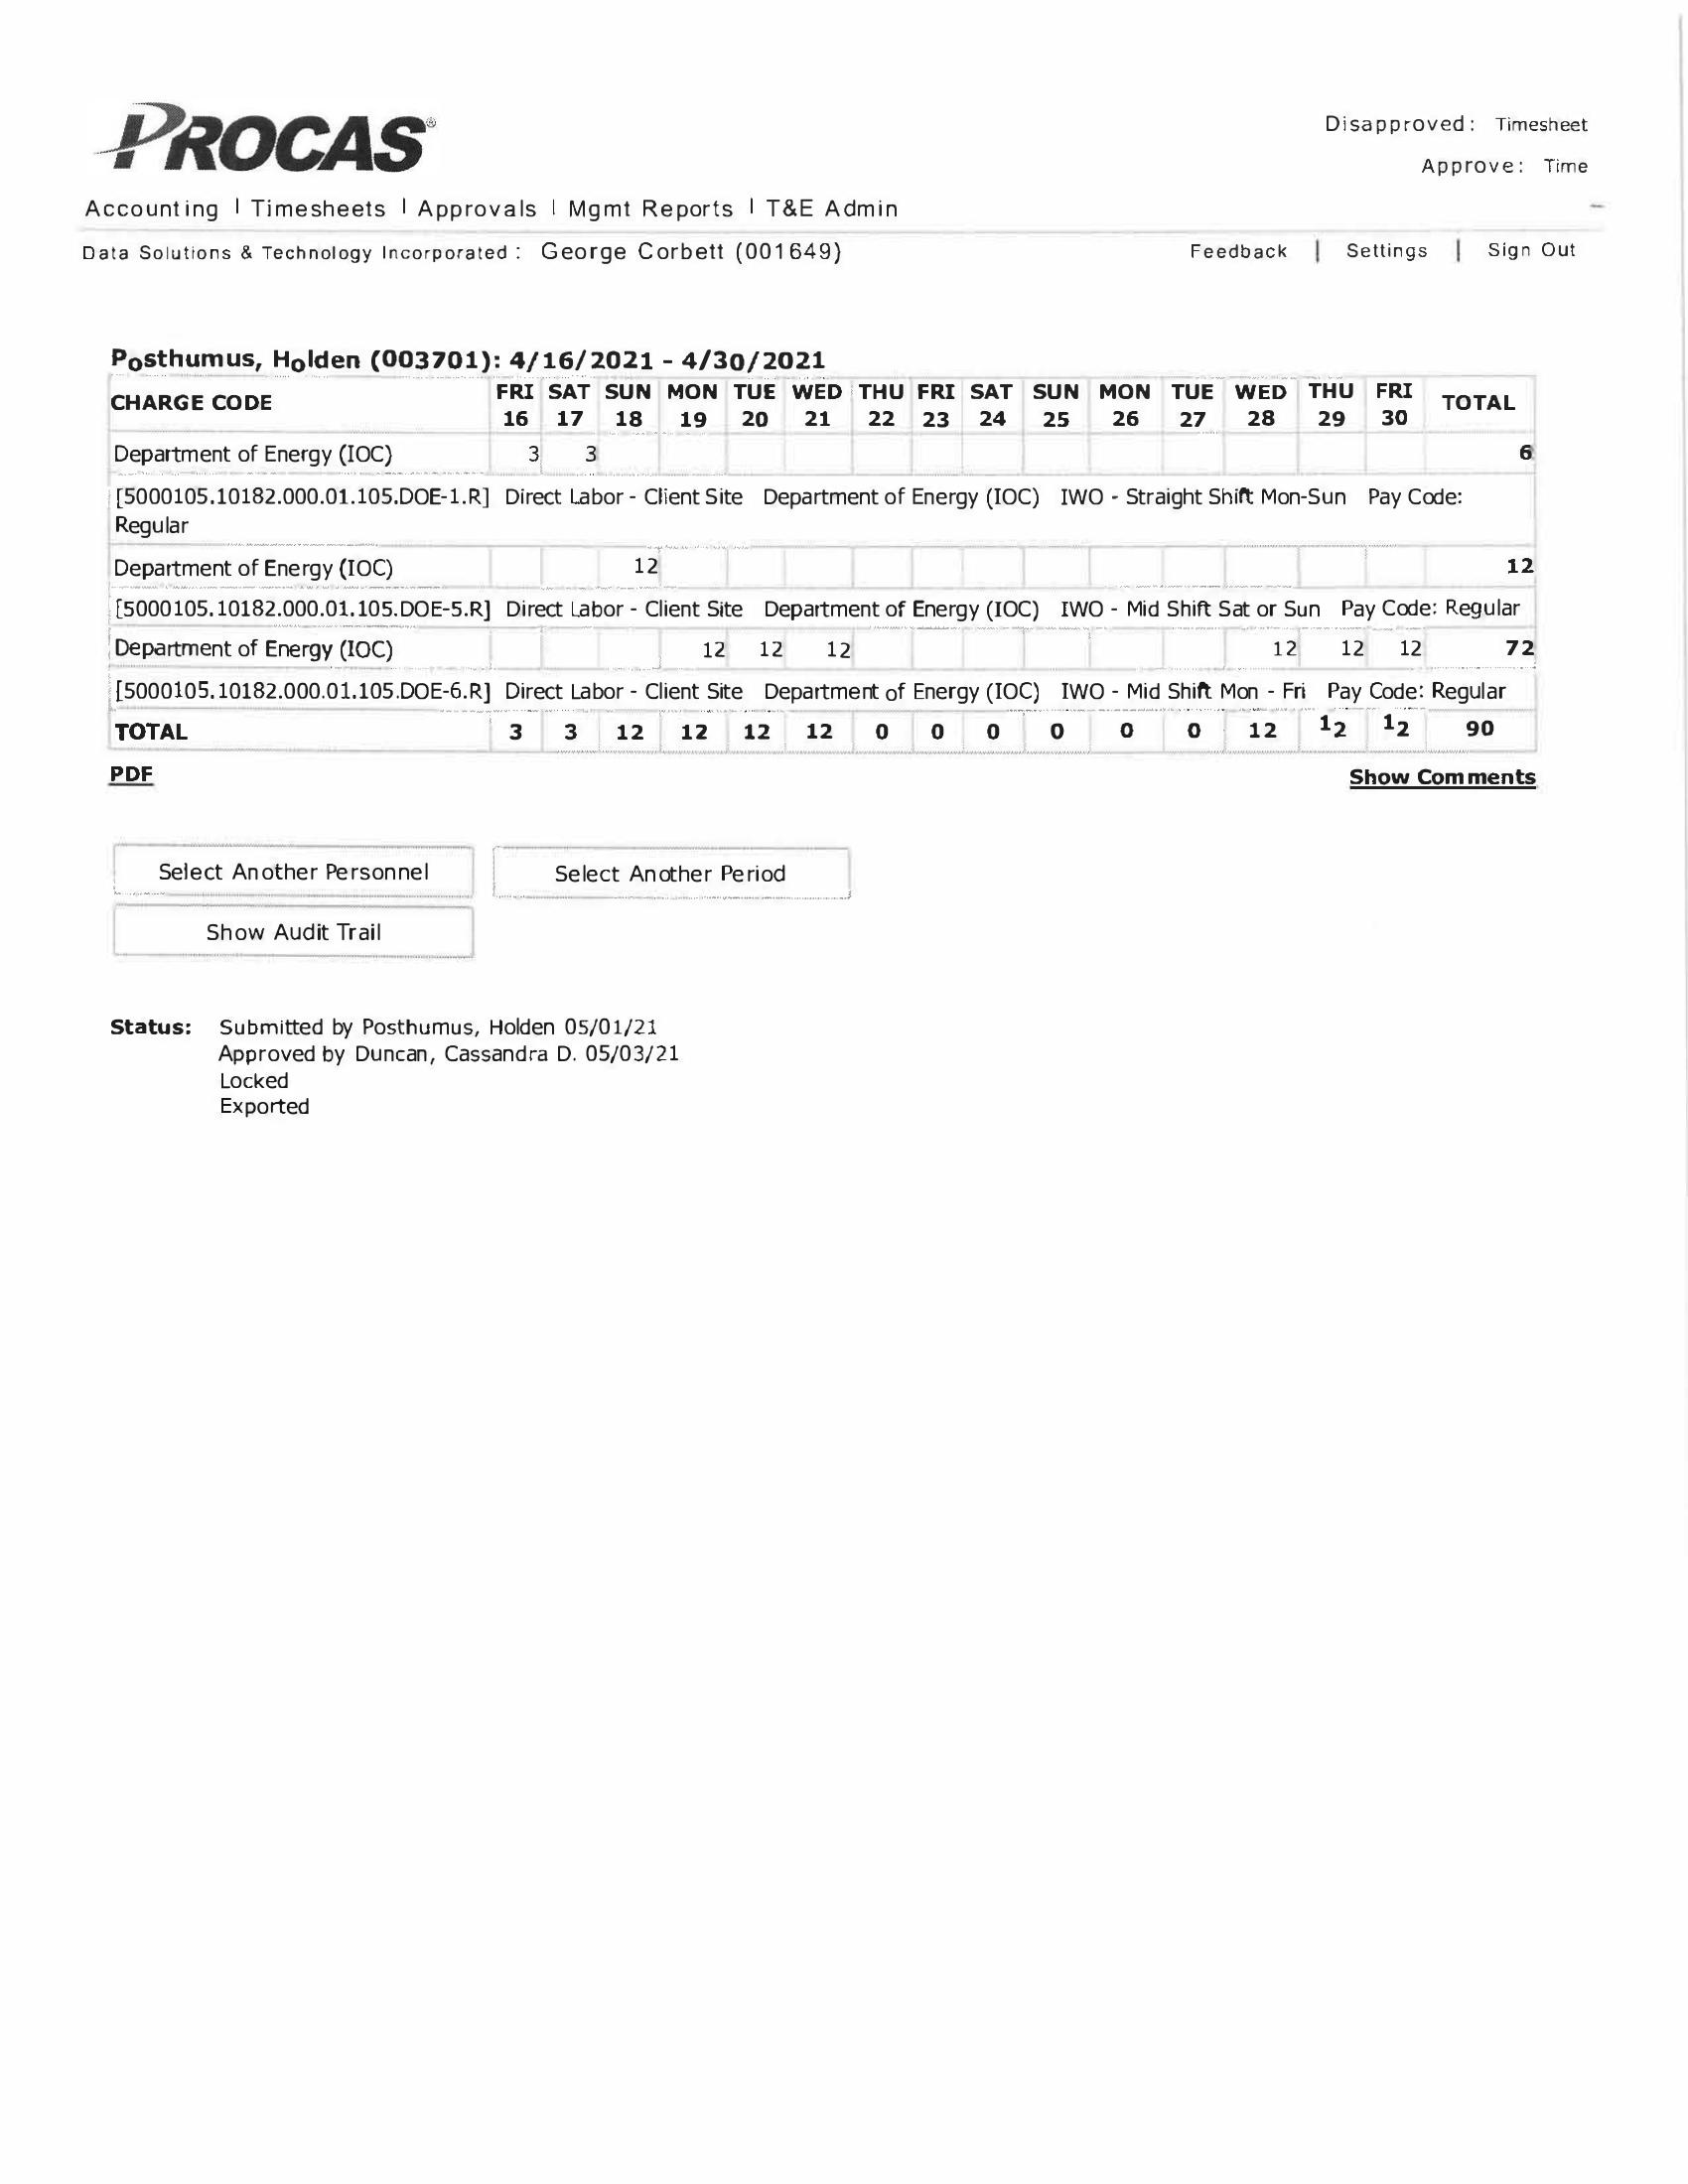table: (112, 365, 1555, 746)
